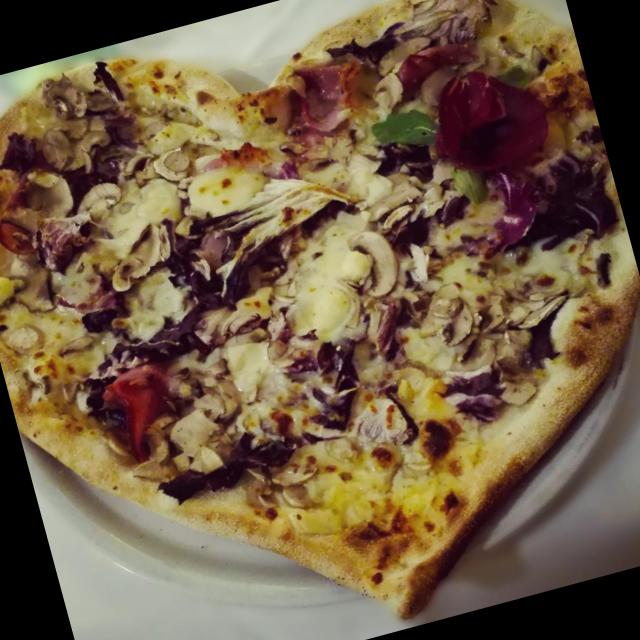mushrooms: (408, 274, 486, 351), (114, 419, 184, 498), (38, 55, 114, 126), (341, 220, 401, 299), (48, 117, 114, 183), (502, 280, 574, 336), (254, 448, 326, 500), (71, 172, 128, 225), (109, 134, 159, 182), (153, 140, 199, 180), (150, 213, 186, 260), (56, 322, 98, 359), (162, 168, 201, 202)
pizza: (0, 0, 640, 621)
